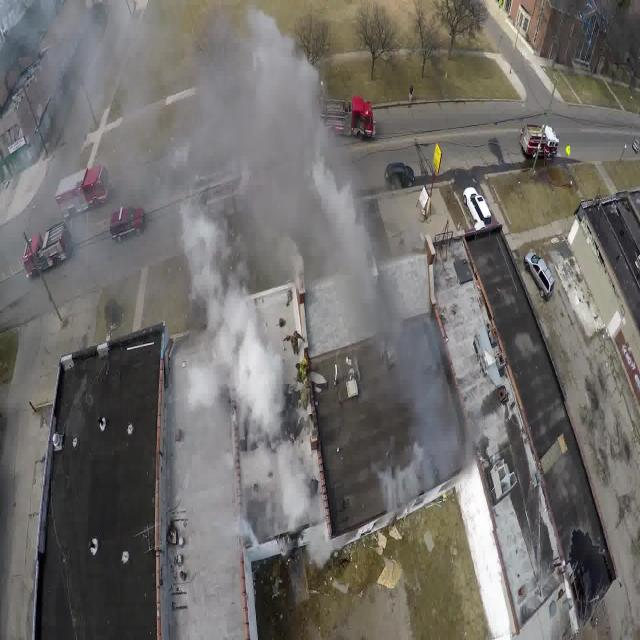smoke: (188, 42, 317, 554), (333, 178, 468, 492), (54, 5, 180, 255)
